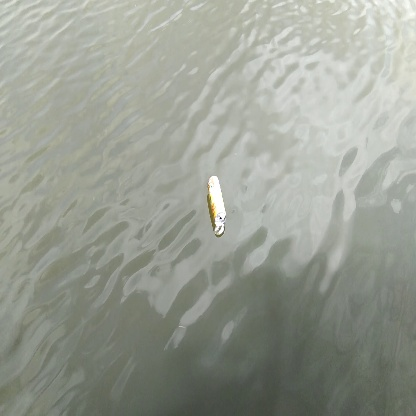bottle: (203, 174, 231, 235)
